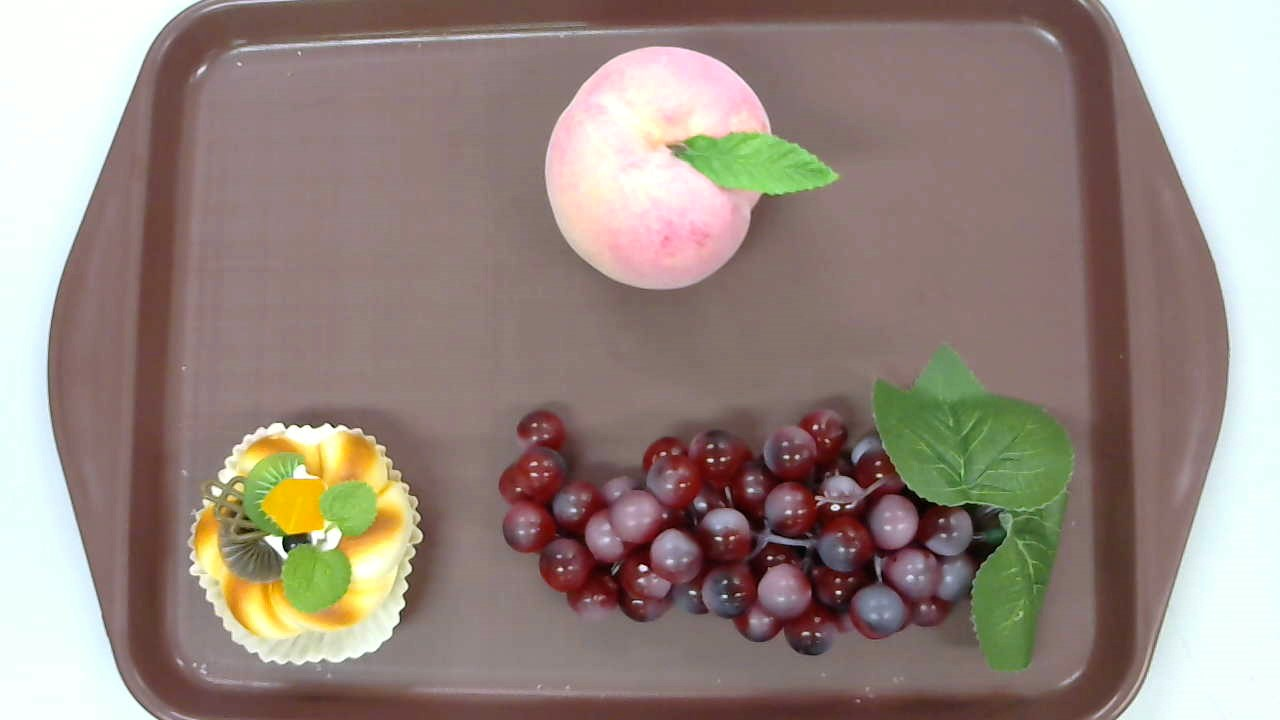fruit tart: (186, 421, 424, 666)
grape: (497, 341, 1078, 678)
peach: (544, 44, 838, 293)
